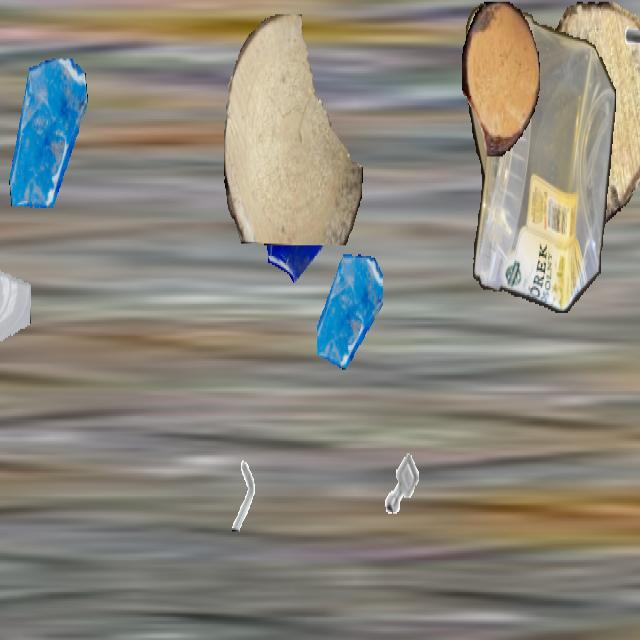glass: (6, 59, 90, 208), (256, 138, 338, 284), (317, 252, 383, 370), (0, 249, 30, 355)
metal: (377, 439, 427, 528), (610, 2, 640, 112), (222, 457, 264, 531)
plastic: (466, 2, 616, 311)
wood: (224, 14, 362, 246), (520, 2, 640, 226), (462, 1, 540, 154)
